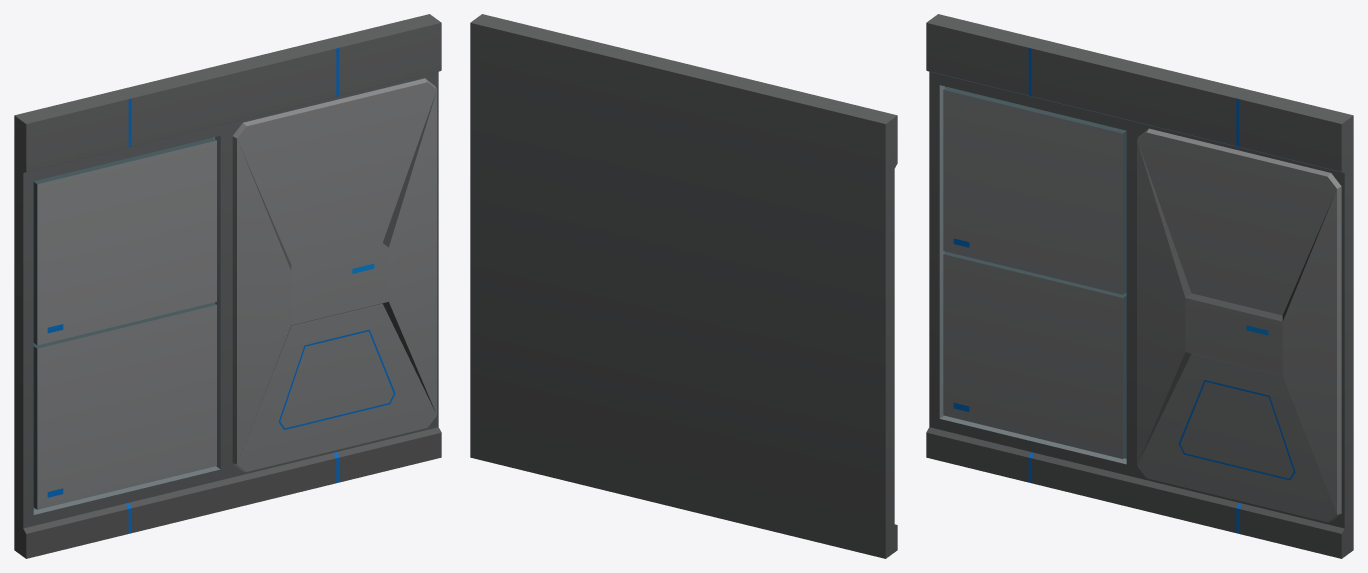
The model's file is Wall_type_B_065.fbx.
3 renders of one model, left to right at view 1: azimuth 30°, elevation 25°; view 2: azimuth 150°, elevation 25°; view 3: azimuth 330°, elevation 25°, orthographic.
Visible parts, largest first — view 1: Wall_type_B_065; view 2: Wall_type_B_065; view 3: Wall_type_B_065.
Boxes of the visible parts, box(x1,y1,x2,y2) form: Wall_type_B_065: box(14, 14, 441, 558); Wall_type_B_065: box(470, 14, 897, 558); Wall_type_B_065: box(926, 14, 1353, 558).
Size of the model in its own units: 400 by 25 by 400.
